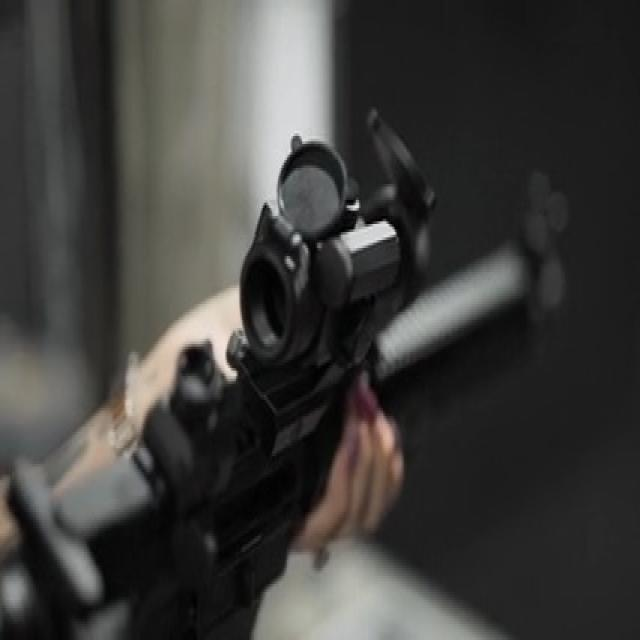Gun_Holder: (66, 117, 558, 631)
